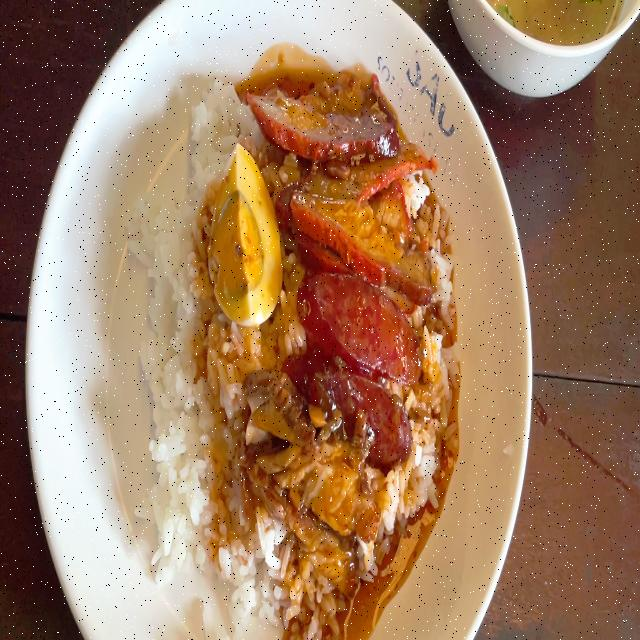boiled_egg: (218, 149, 273, 327)
chainese_sausage: (302, 272, 423, 444)
crispy_pork: (269, 445, 370, 567), (239, 381, 311, 466)
red_pork: (292, 136, 451, 256), (267, 104, 398, 220)
red_pork_and_crispy_pork: (144, 88, 450, 640)
rice: (152, 92, 210, 588), (184, 334, 234, 640)
